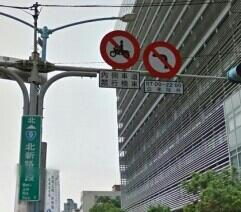no_left_turn: (142, 39, 180, 78)
